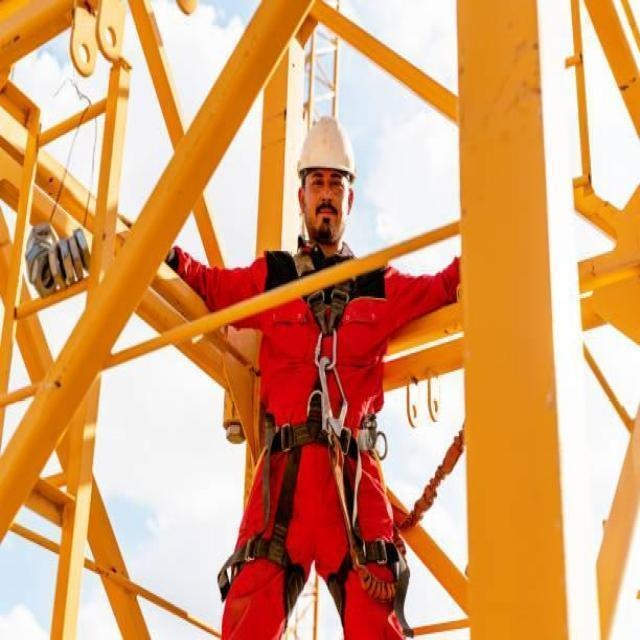Arnes_seguridad: (235, 247, 414, 586)
